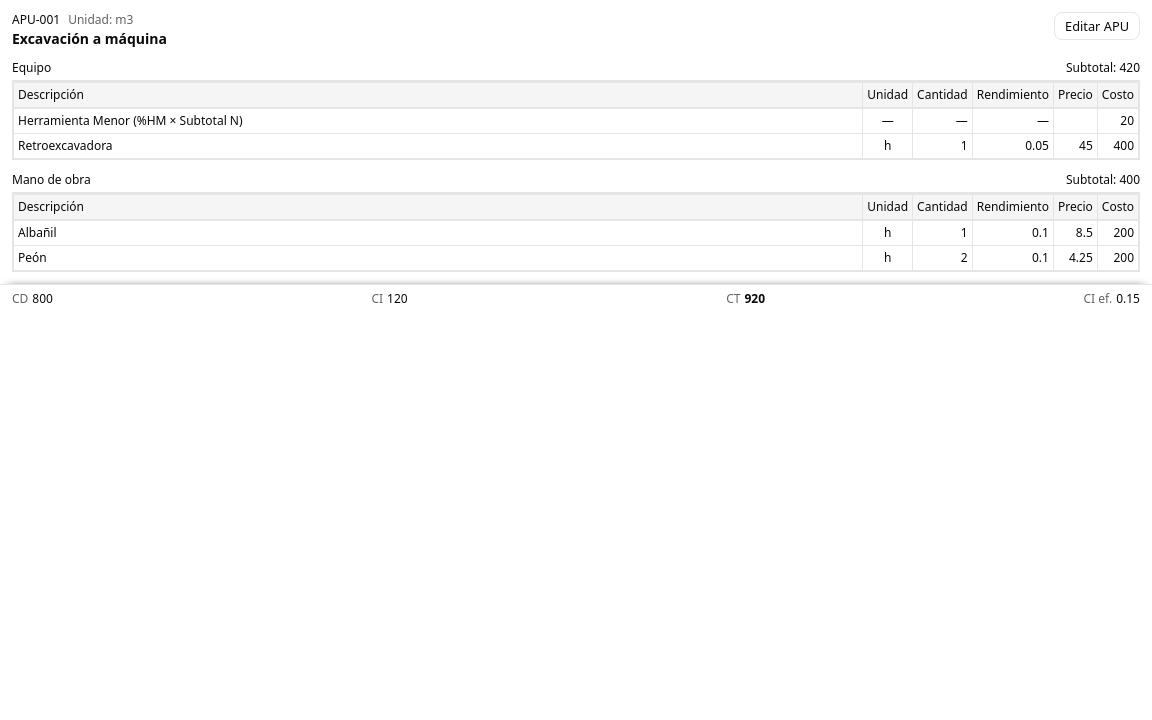
Test case: PestanaApu › restores keyboard focus after closing nested Agregar insumo a Equipo
Click the button with aria-label "Editar APU completo".
click(1097, 26)  # box [1054,12,1140,40]
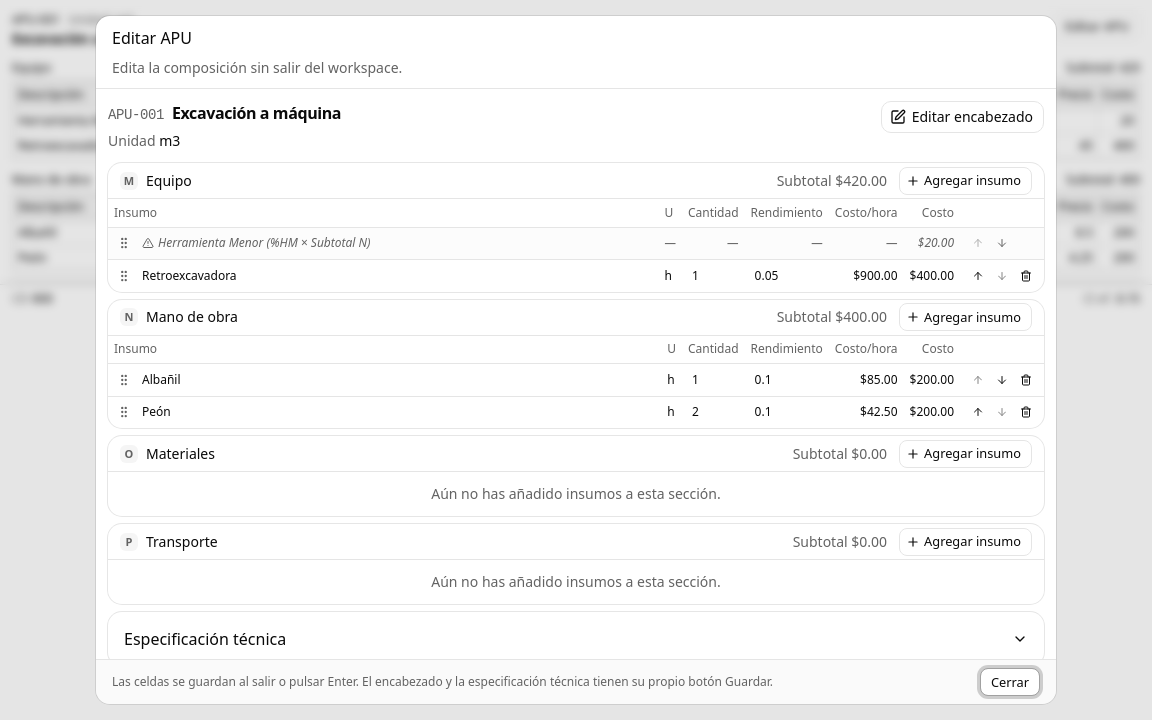
Click the button with aria-label "Agregar insumo a Equipo".
click(966, 180)  # box [899,166,1032,194]
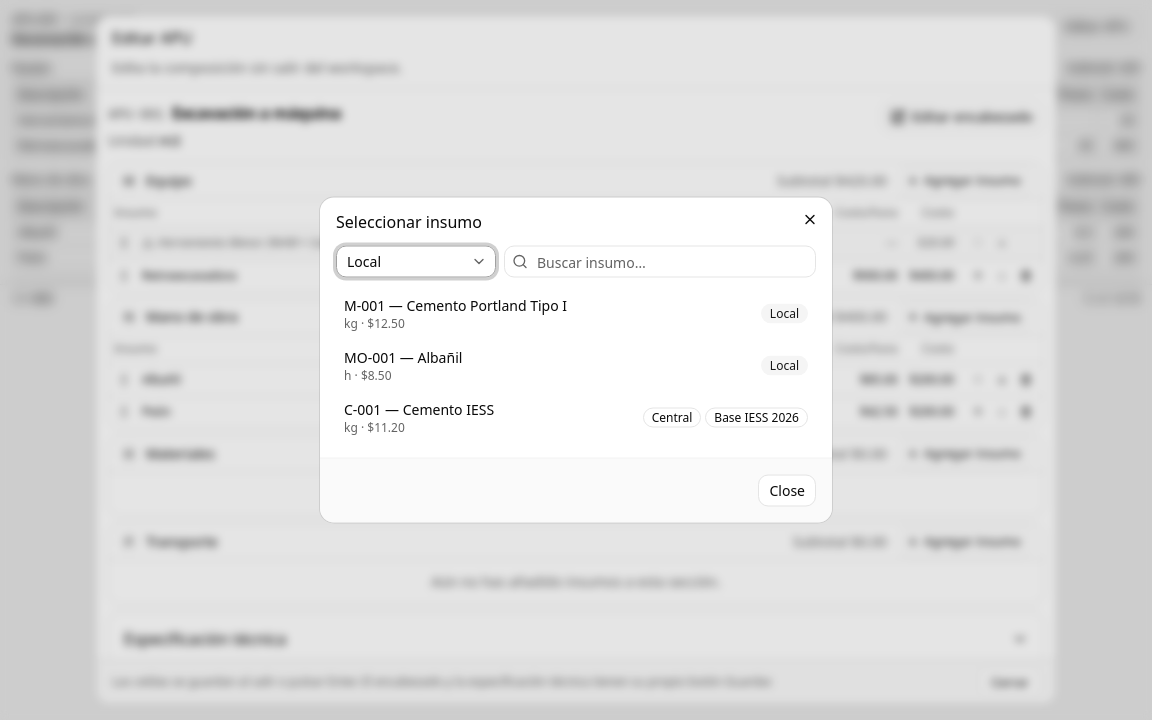
Result: the dialog "Seleccionar insumo" is shown at [320,198,832,522]
Press Escape
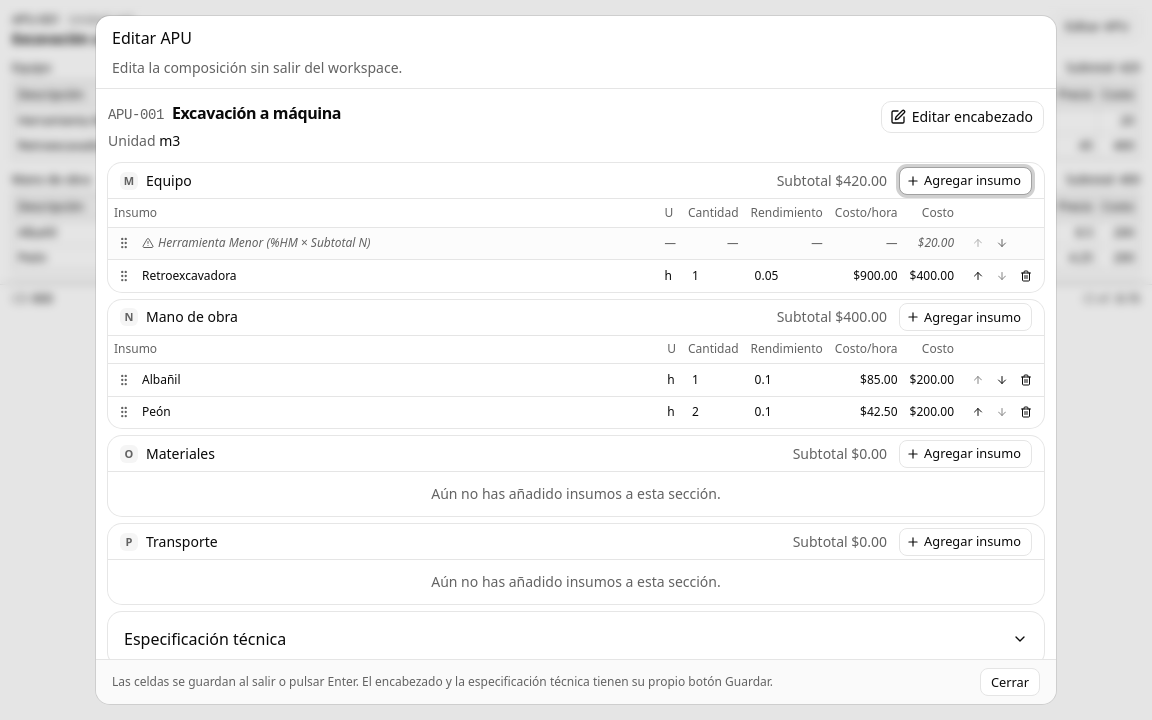
Result: the heading "Seleccionar insumo" is gone
